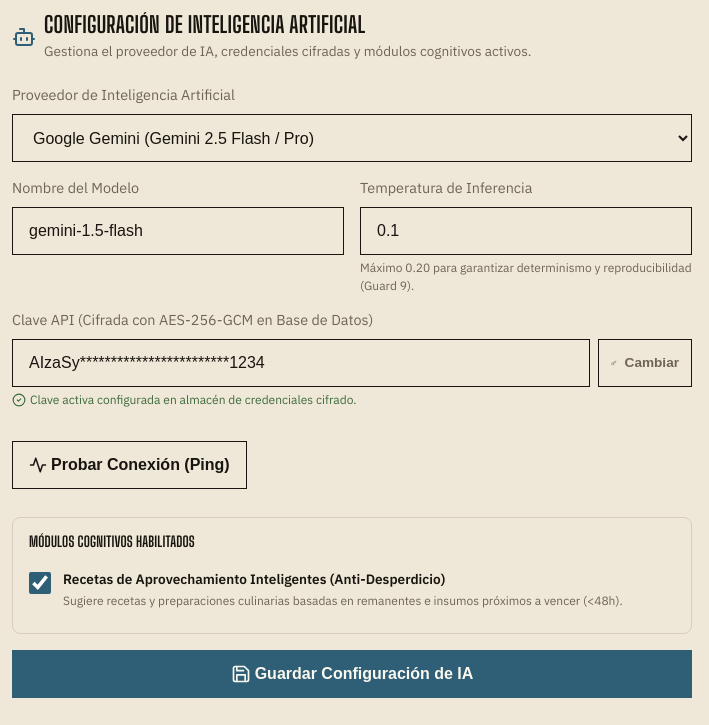
Scenario: TK-123-FE: AiSettingsSection Component Suite › persiste la configuración modificada vía PUT y muestra feedback
expect the field showing "gemini-1.5-flash" is shown: met, box left=12, top=207, right=344, bottom=255
Replace the text in the number field labelled "Temperatura de Inferencia" with "0.15". click: x=526, y=231
box: left=360, top=207, right=692, bottom=255
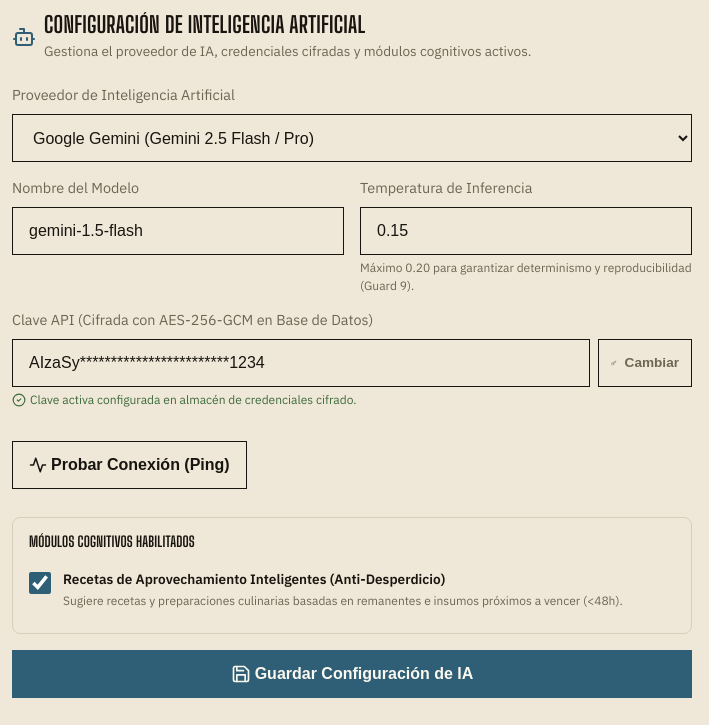
Click the button "Guardar Configuración de IA". click: x=352, y=674
box: left=12, top=650, right=692, bottom=698
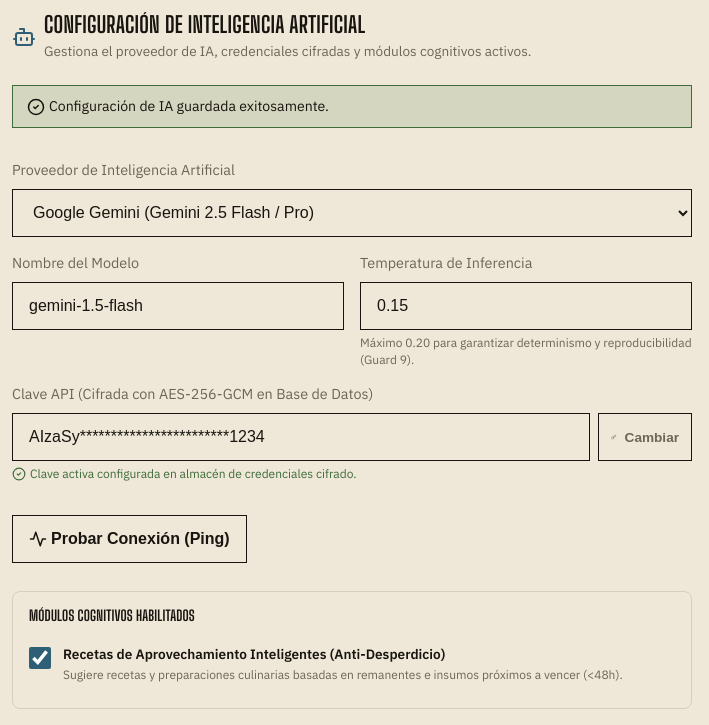
expect the text "Configuración de IA guardada exitosamente." is shown: met, box left=49, top=96, right=329, bottom=117
